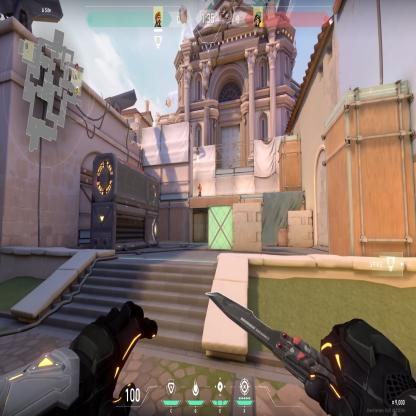enemy: (197, 181, 202, 197)
